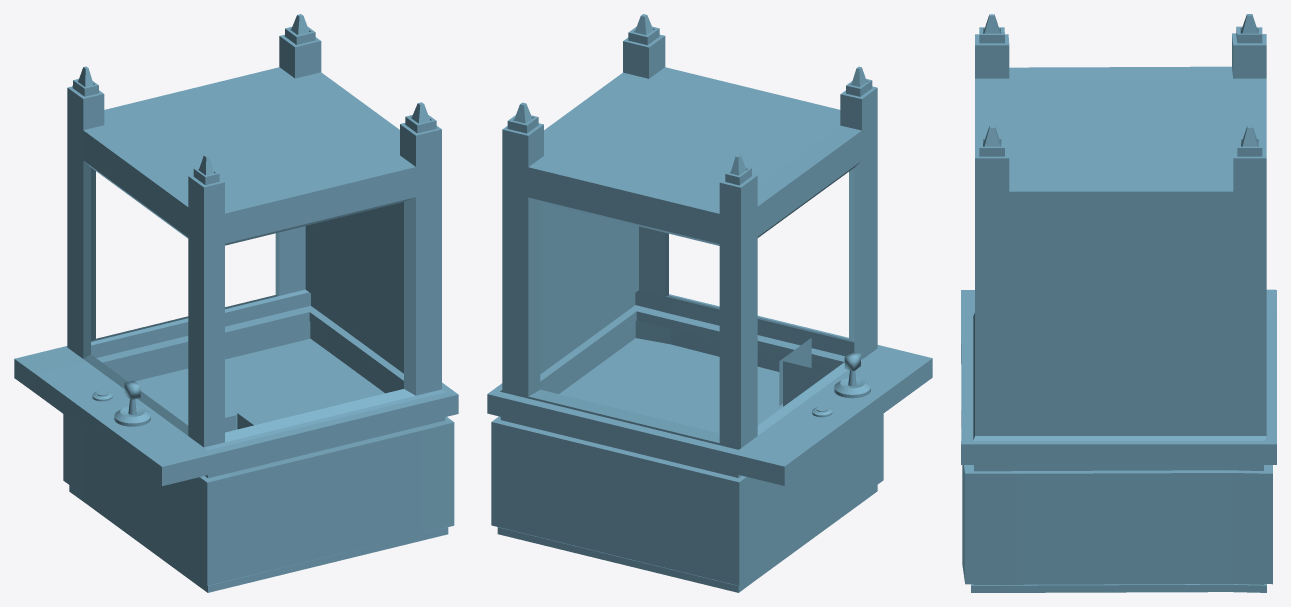
Rendered from Machine-pince2.glb.
3 views of the same model, side by side, from view 1: azimuth 30°, elevation 25°; view 2: azimuth 150°, elevation 25°; view 3: azimuth 270°, elevation 25° (orthographic). The views are drawn at different scales.
Parts seen in each view (by area): view 1: Machine à pinces; view 2: Machine à pinces, Mur_cote, Mur_avant; view 3: Machine à pinces.
Part boxes in pixels (x1,y1,x2,y2): Machine à pinces: (14, 14, 458, 592); Machine à pinces: (487, 14, 932, 592); Mur_cote: (783, 361, 829, 406); Mur_avant: (779, 338, 811, 405); Machine à pinces: (961, 14, 1276, 592).
Bounding box in the file's own units: 13.8 × 19 × 11.9.
